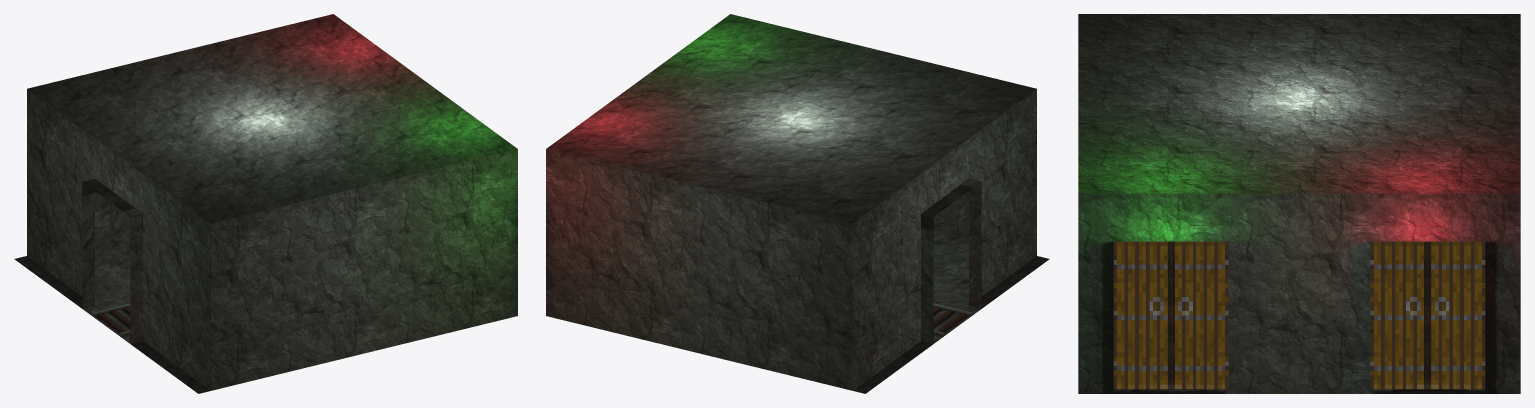
File: flow-cart.glb
The picture shows the model from 3 angles, left to right: view 1: azimuth 30°, elevation 25°; view 2: azimuth 150°, elevation 25°; view 3: azimuth 270°, elevation 25°; orthographic projection. The views are drawn at different scales.
Parts seen in each view (by area): view 1: QuestionRoom; view 2: QuestionRoom; view 3: QuestionRoom, YesDoor.R, NoDoor.L, YesDoor.L, NoDoor.R.
Boxes of the visible parts, x1,y1,x2,y2 form: QuestionRoom: (14,14,517,393); QuestionRoom: (546,14,1049,393); QuestionRoom: (1078,14,1520,393); YesDoor.R: (1113,241,1171,389); NoDoor.L: (1427,241,1485,389); YesDoor.L: (1171,241,1228,389); NoDoor.R: (1370,241,1427,389).
Bounding box in the file's own units: 5 × 2.5 × 5.
Materials: 6 (6 with a texture image).
